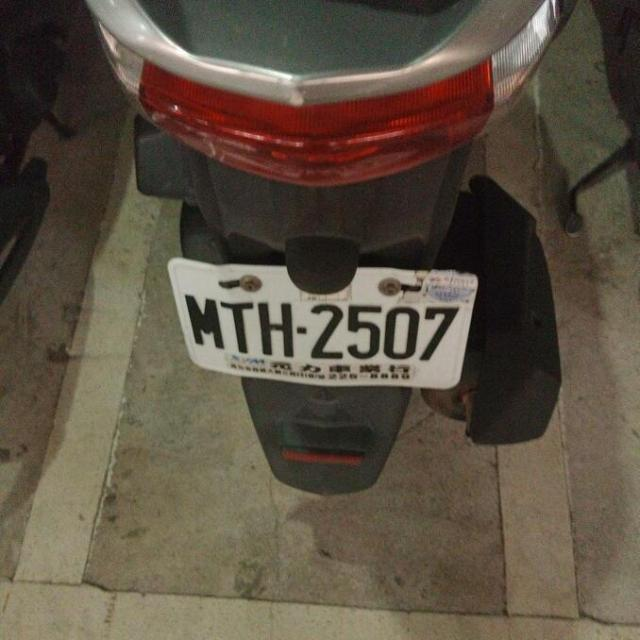W: (162, 240, 482, 400)
